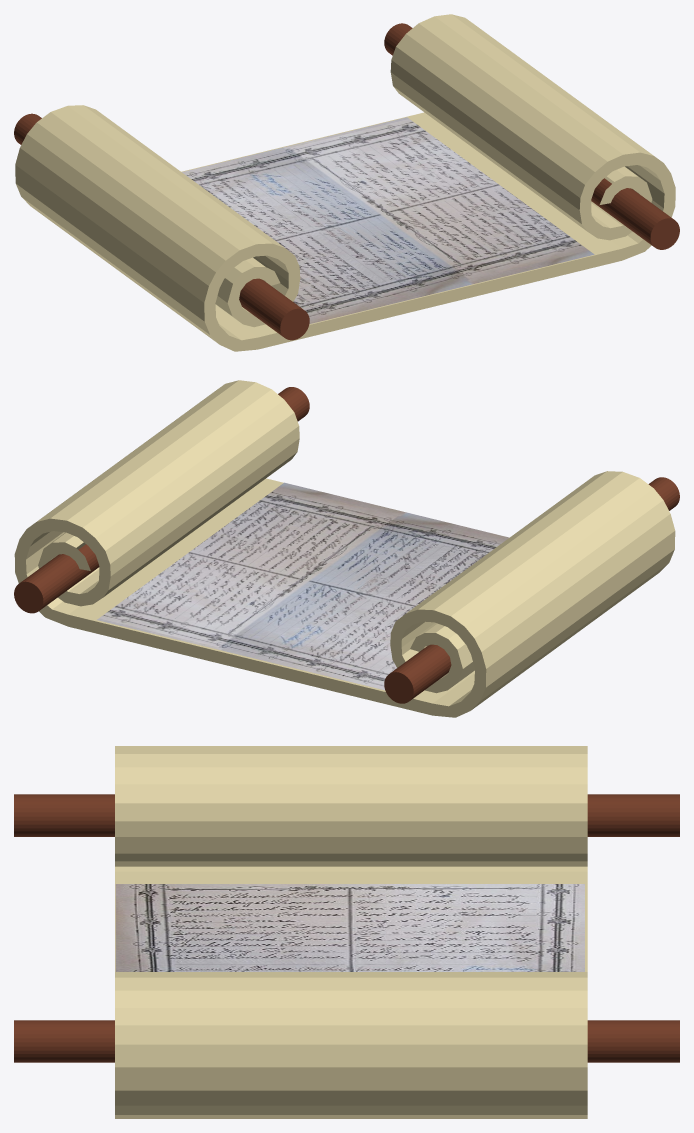
File: ScrollHP12.4.fbx
3 renders of one model, top to bottom at view 1: azimuth 30°, elevation 25°; view 2: azimuth 150°, elevation 25°; view 3: azimuth 270°, elevation 25°, orthographic. The views are drawn at different scales.
Visible parts, largest first — view 1: Cube, Plane, Cylinder.000, Cylinder.001; view 2: Cube, Plane, Cylinder.000, Cylinder.001; view 3: Cube, Plane, Cylinder.001, Cylinder.000.
Boxes of the visible parts, bbox=[...] form: Cube: bbox=[15, 14, 675, 351]; Plane: bbox=[182, 117, 594, 323]; Cylinder.000: bbox=[384, 23, 679, 249]; Cylinder.001: bbox=[14, 113, 309, 340]; Cube: bbox=[14, 380, 675, 717]; Plane: bbox=[97, 482, 509, 690]; Cylinder.000: bbox=[14, 387, 309, 613]; Cylinder.001: bbox=[384, 477, 679, 703]; Cube: bbox=[115, 746, 587, 1118]; Plane: bbox=[115, 884, 584, 971]; Cylinder.001: bbox=[14, 794, 679, 836]; Cylinder.000: bbox=[14, 1020, 679, 1062].
Bounding box in the file's own units: 409 × 87.63 × 400.
